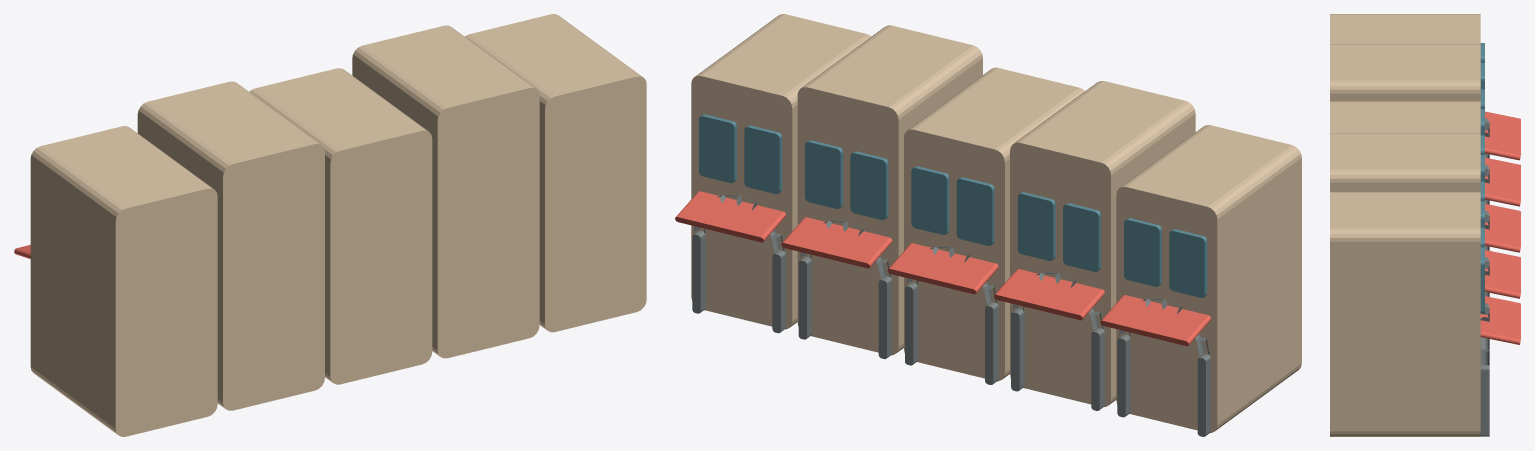
The model's file is shophouse-row.glb.
The picture shows the model from 3 angles, left to right: view 1: azimuth 30°, elevation 25°; view 2: azimuth 150°, elevation 25°; view 3: azimuth 270°, elevation 25°; orthographic projection. The views are drawn at different scales.
Visible parts, largest first — view 1: five_varied_bays; view 2: five_varied_bays, upper_shutters, awnings, five_foot_way_arches; view 3: five_varied_bays, awnings, five_foot_way_arches, upper_shutters.
Boxes of the visible parts, <box> form: five_varied_bays: <box>30,14,646,436</box>; five_varied_bays: <box>691,14,1301,432</box>; upper_shutters: <box>699,114,1207,297</box>; awnings: <box>675,191,1211,346</box>; five_foot_way_arches: <box>692,194,1210,436</box>; five_varied_bays: <box>1330,14,1480,436</box>; awnings: <box>1480,111,1520,344</box>; five_foot_way_arches: <box>1480,118,1489,436</box>; upper_shutters: <box>1480,43,1484,313</box>.
Size of the model in its own units: 15.1 by 6.8 by 5.33.
